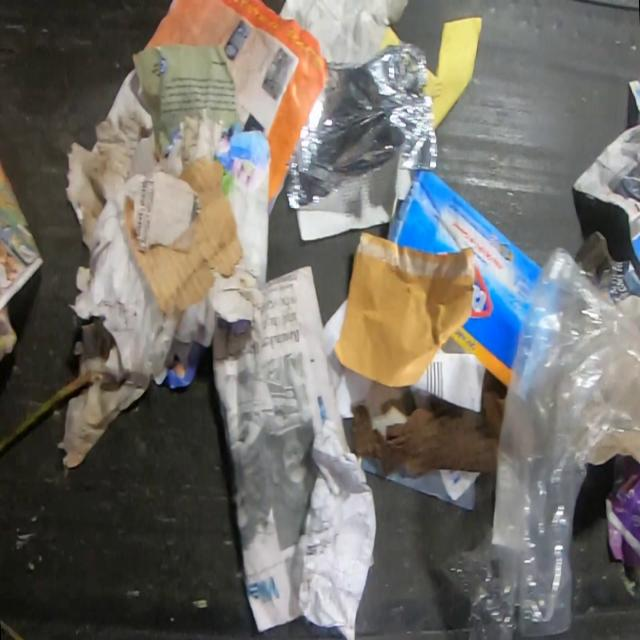cardboard: (126, 156, 244, 317)
soft_plastic: (439, 247, 640, 639), (283, 44, 438, 208)
